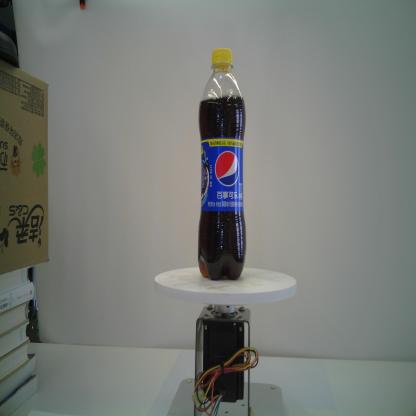Drink: (198, 47, 246, 282)
